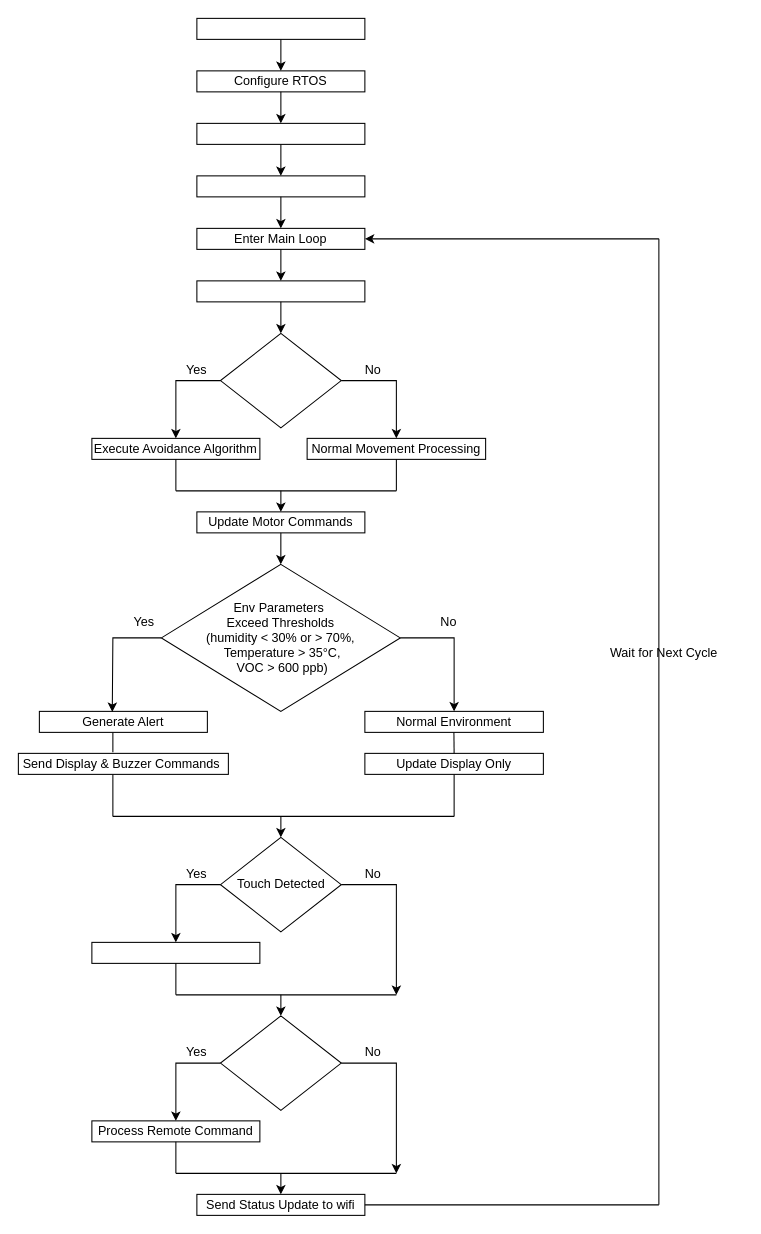
The diagram is 761 pixels wide and 1234 high, and some of its shapes have lost their labels. The box of each missing label's shape, as (x1, y1, x2, y2) in pixels:
Generate Touch Response: (91, 941, 260, 963)
Initialize MCU Peripherals: (196, 122, 365, 144)
Initialize System: (196, 17, 365, 39)
Obstacle within 10cm: (219, 332, 341, 428)
Process Sensor Data: (196, 280, 365, 302)
Remote Command Received: (219, 1015, 341, 1110)
Start Other Tasks: (196, 175, 365, 197)
